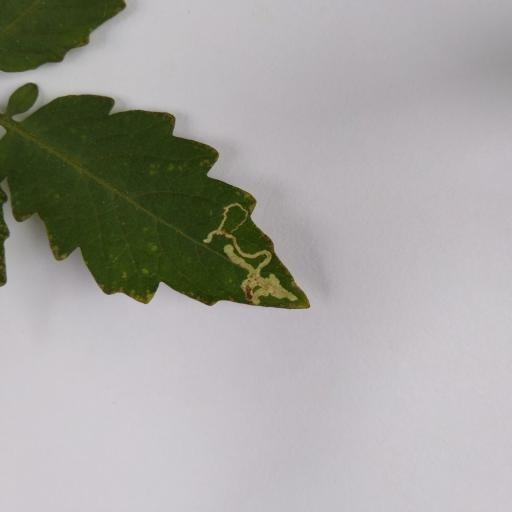disease_tomato: (0, 96, 312, 312)
